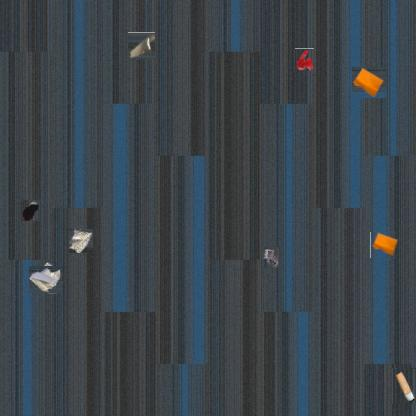dirty: (352, 66, 386, 99), (30, 264, 62, 295), (392, 368, 416, 404), (128, 32, 155, 60), (370, 232, 399, 258), (69, 229, 93, 253), (262, 246, 280, 268)
liquid: (294, 48, 314, 71), (20, 200, 40, 222)
